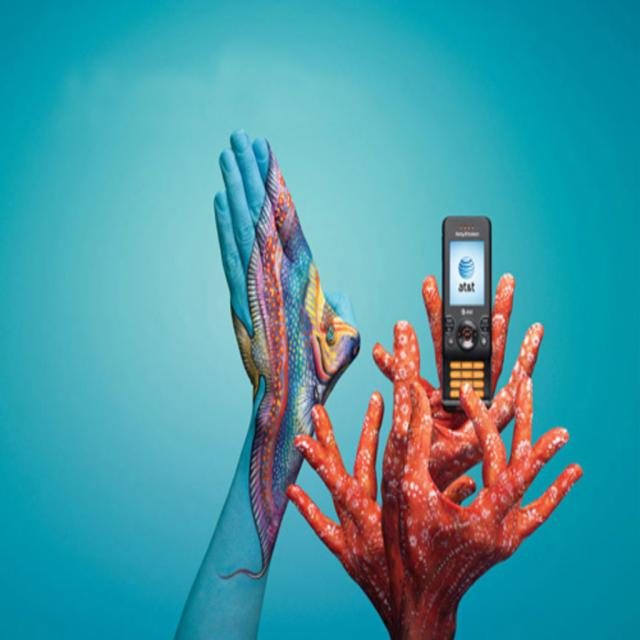Mobile-phone: (431, 216, 503, 387)
